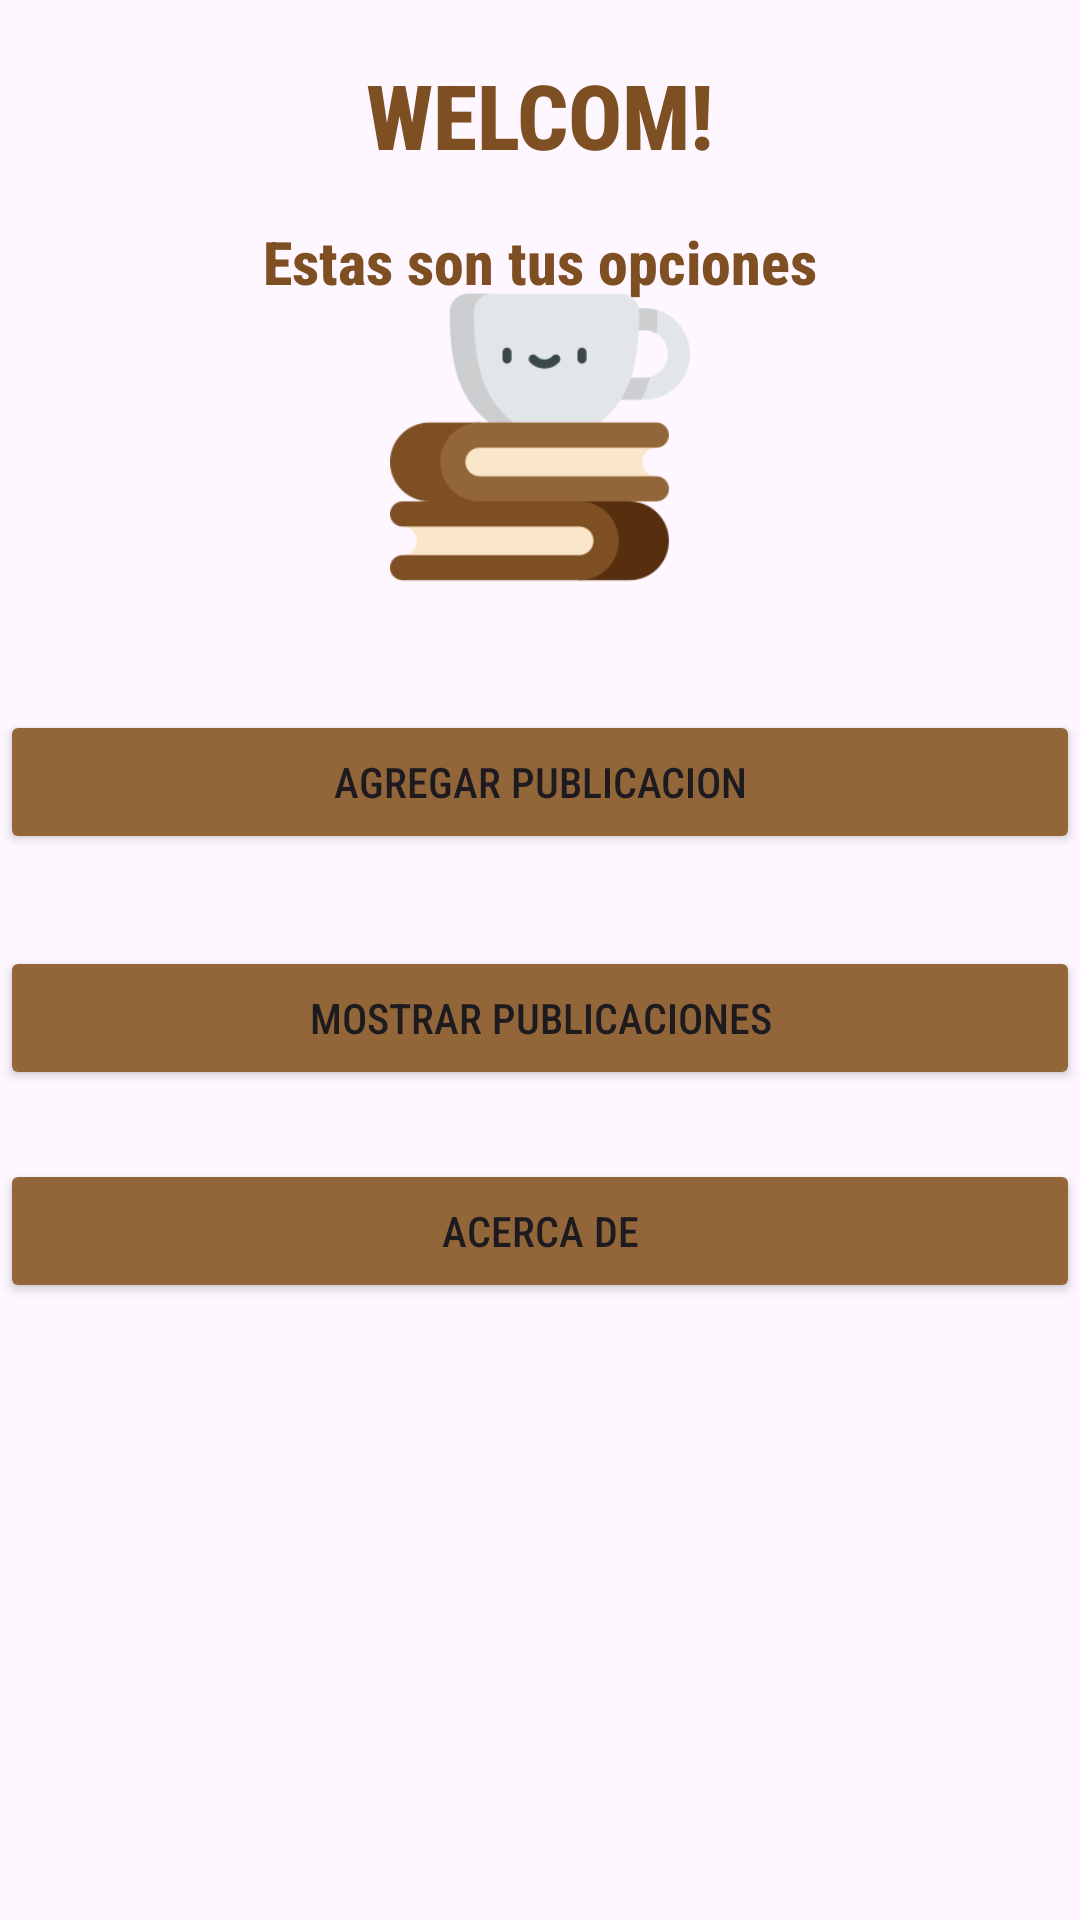

Screen size 1080x1920. Icon name, then its box in pixels as (x1, y1, x2, y2):
cafe: (390, 287, 690, 581)
